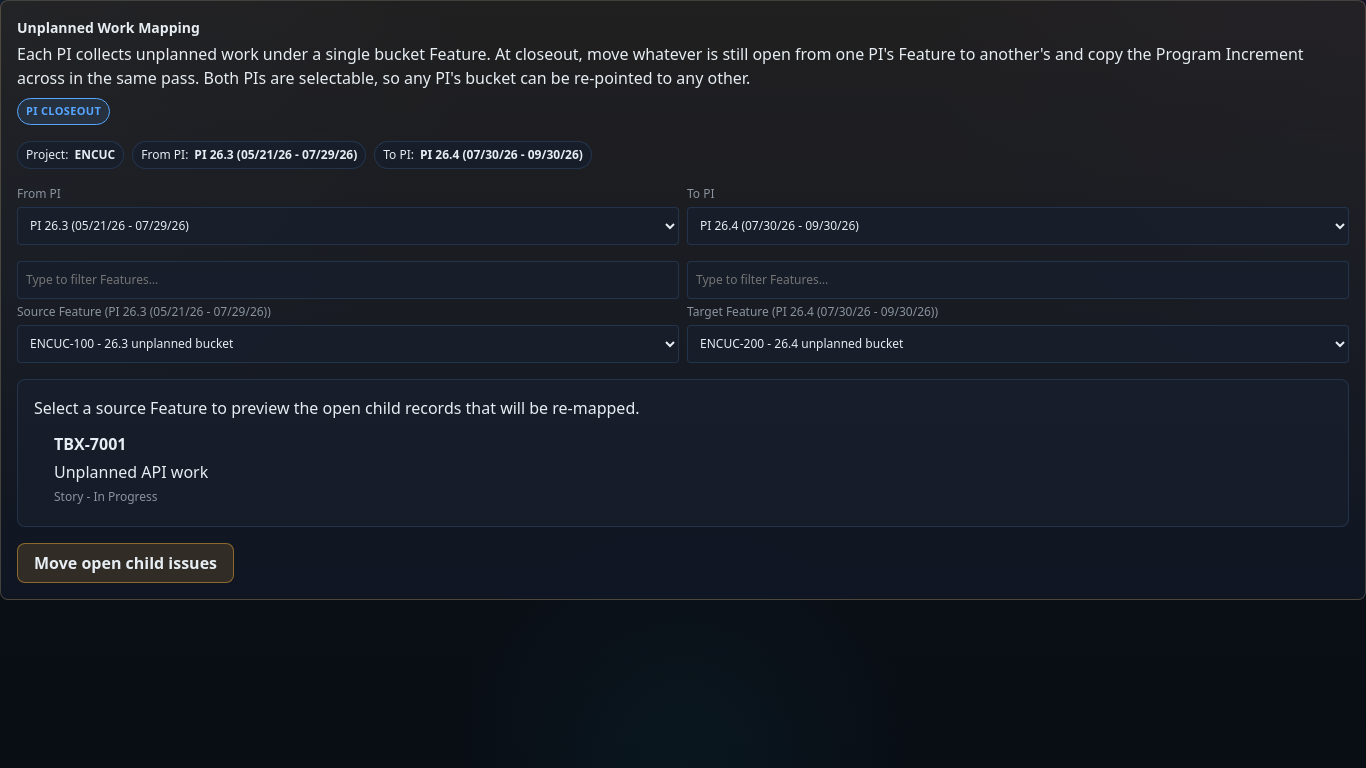
Test case: PiFeatureRemapPanel › lets the user re-point to ANY PI — picking a different source PI loads that PI’s Features
The width and height of the screenshot is (1366, 768).
Check: the dropdown labelled "Source Feature (PI 26.3 (05/21/26 - 07/29/26))" shows "ENCUC-100 - 26.3 unplanned bucket", box [17, 324, 679, 362]
Select "PI 26.4 (07/30/26 - 09/30/26)" in the dropdown named "source pi": [348, 226] box [17, 206, 679, 244]
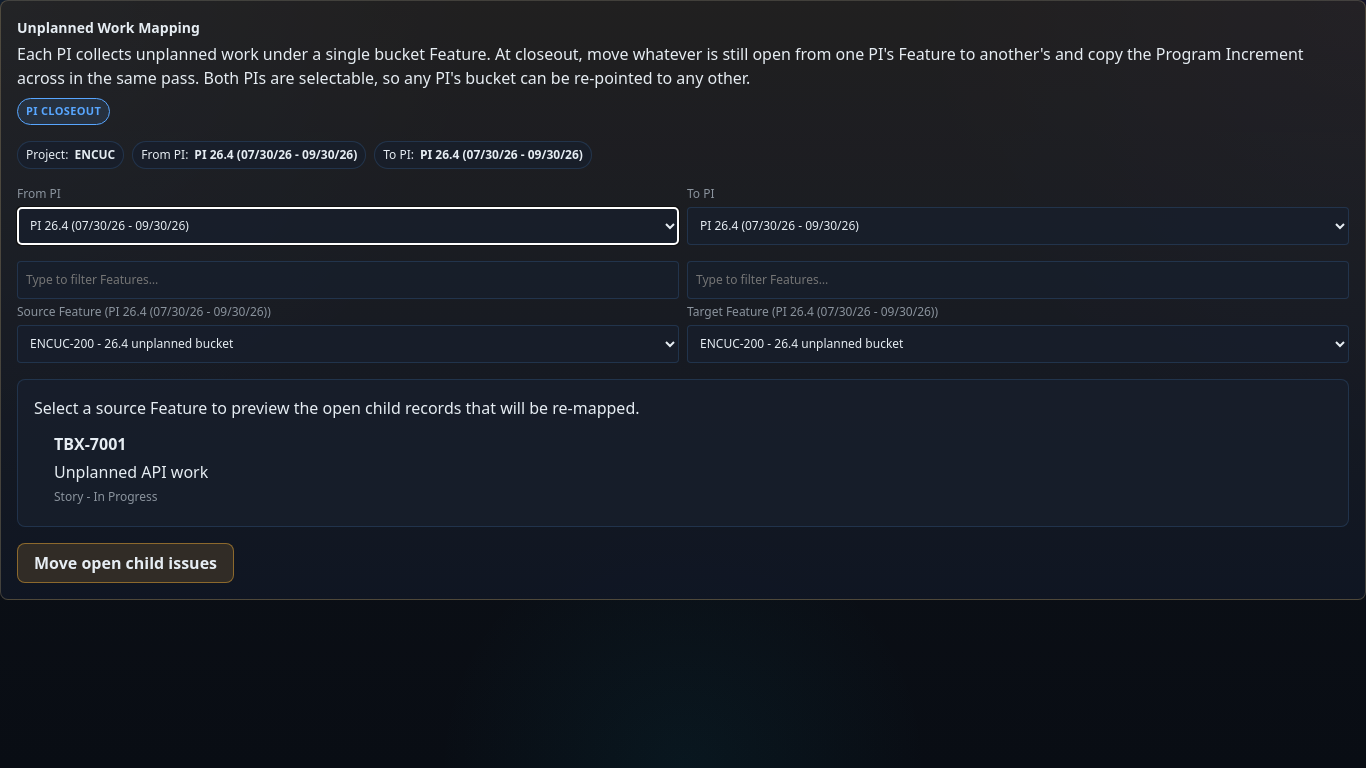
Check: the dropdown labelled "Source Feature (PI 26.4 (07/30/26 - 09/30/26))" shows "ENCUC-200 - 26.4 unplanned bucket", box [17, 324, 679, 362]
